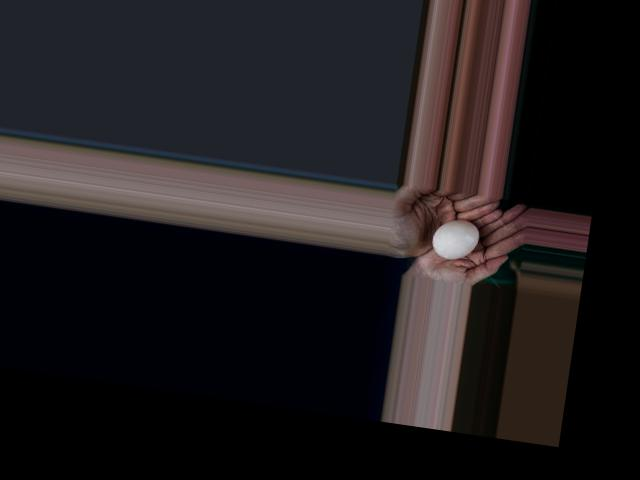egg: (431, 216, 481, 261)
